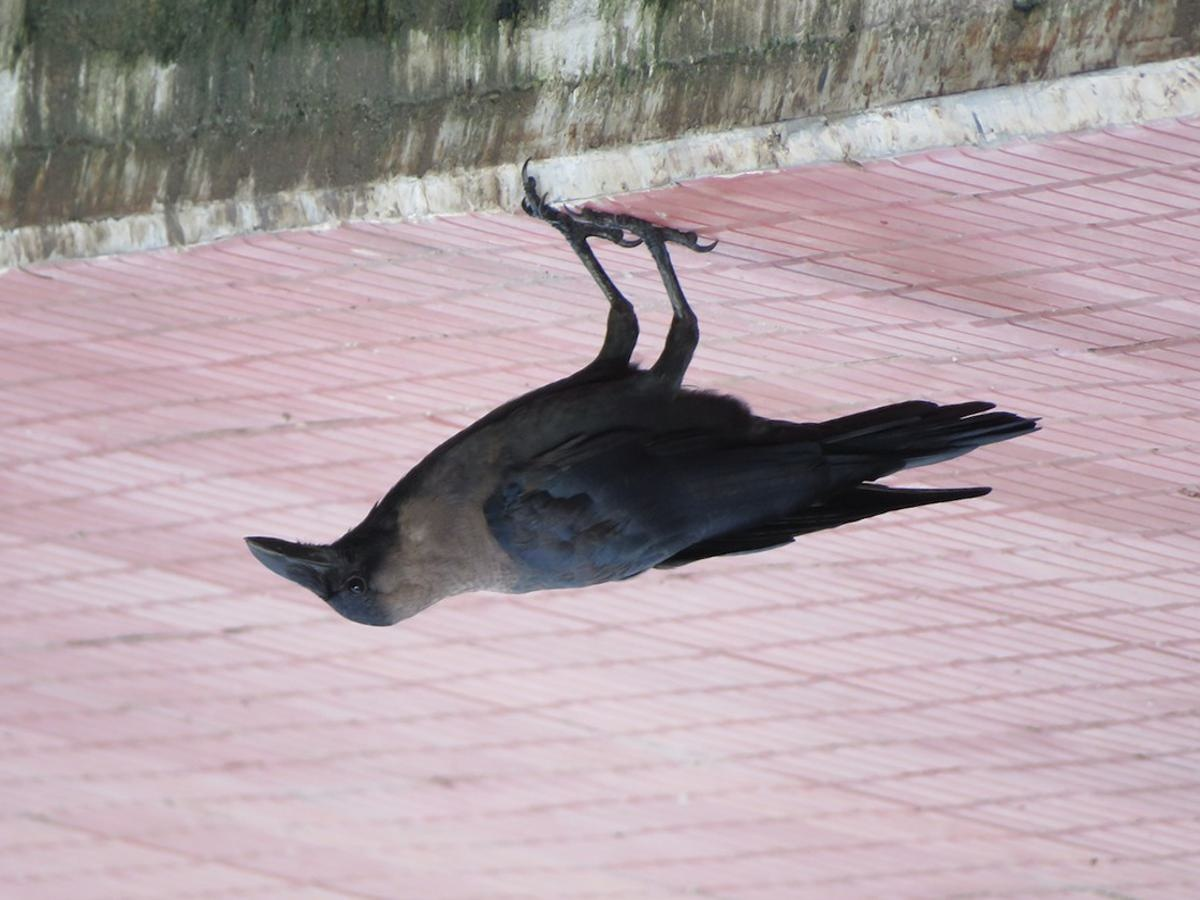crow: (231, 253, 1045, 635)
